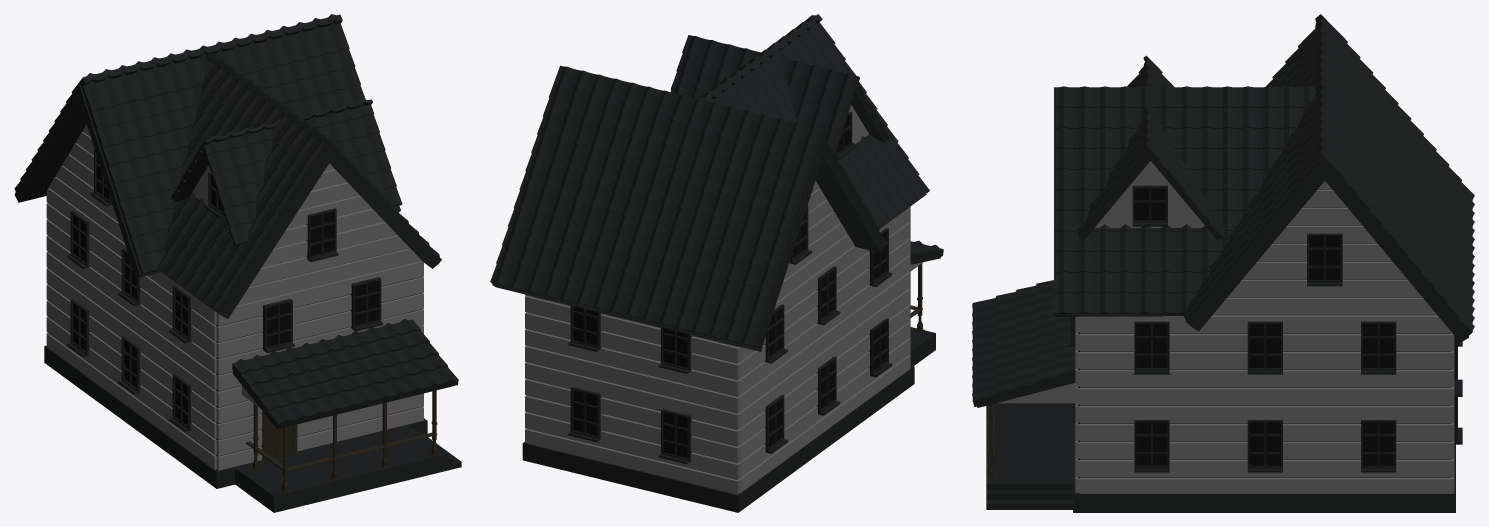
Rendered from isle_house.obj.
The picture shows the model from 3 angles, left to right: view 1: azimuth 30°, elevation 25°; view 2: azimuth 150°, elevation 25°; view 3: azimuth 270°, elevation 25°; orthographic projection. The views are drawn at different scales.
Visible parts, largest first — view 1: House1_Plane.010; view 2: House1_Plane.010; view 3: House1_Plane.010.
Part boxes in pixels (x1=…): House1_Plane.010: x1=14, y1=14, x2=461, y2=512; House1_Plane.010: x1=490, y1=14, x2=943, y2=512; House1_Plane.010: x1=972, y1=14, x2=1474, y2=512.
Bounding box in the file's own units: 2.56 × 3.18 × 3.87.
